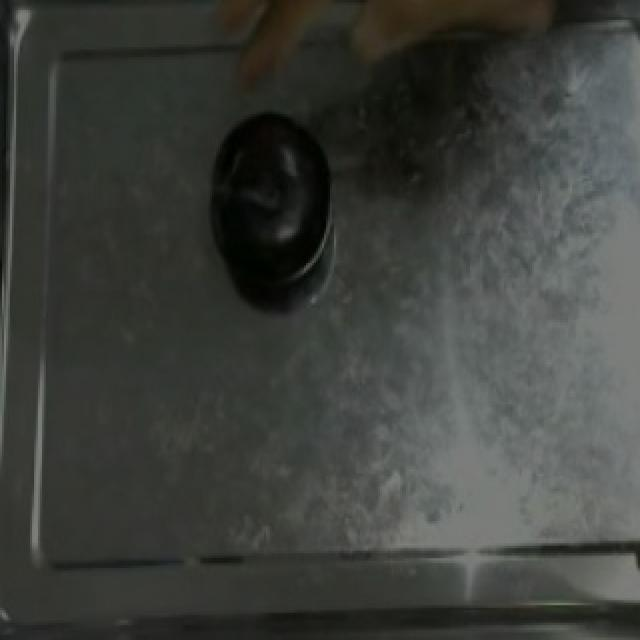Fruit: (206, 106, 338, 298)
